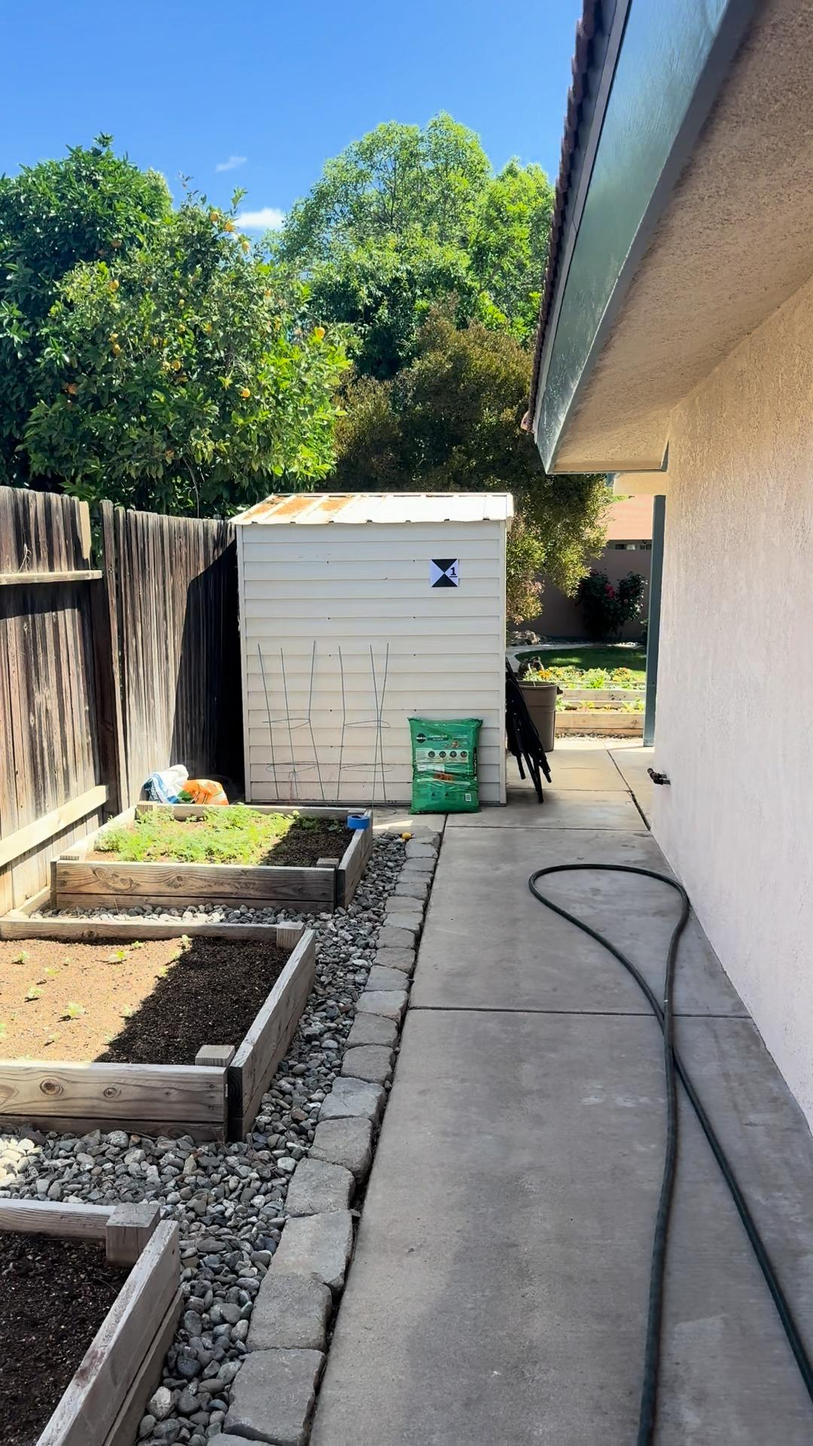target1: (428, 558, 461, 587)
